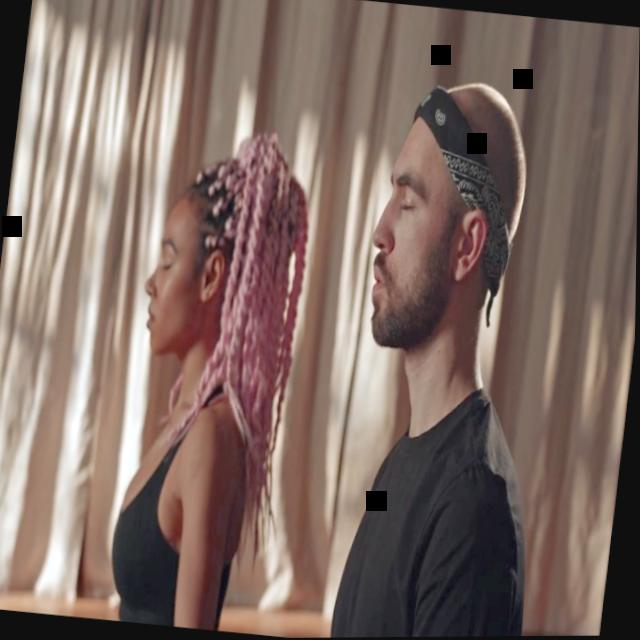NO-Mask: (358, 133, 474, 355), (137, 207, 214, 359)
